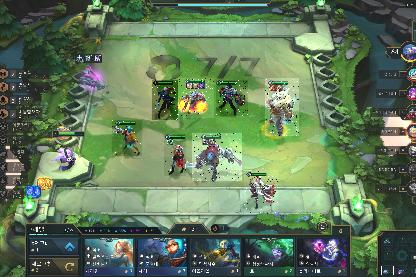2_diana: (164, 134, 186, 176)
2_leesin: (152, 80, 178, 120)
2_olaf: (178, 78, 214, 118)
2_rakan: (244, 170, 278, 214)
2_rengar: (192, 133, 242, 181)
2_sylas: (216, 80, 248, 116)
2_volibear: (265, 78, 299, 136)
2_zeri: (112, 120, 142, 156)
